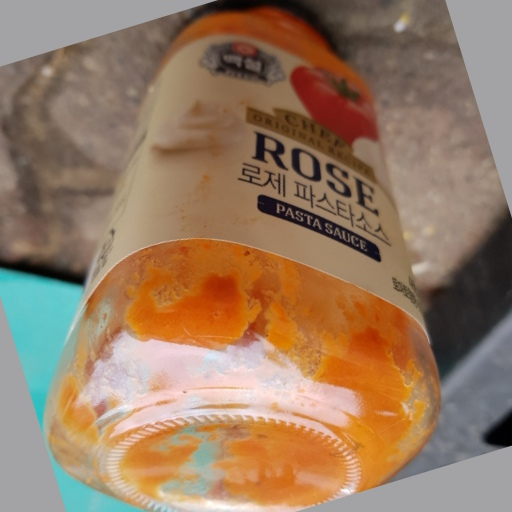Glass_5: (43, 2, 440, 505)
